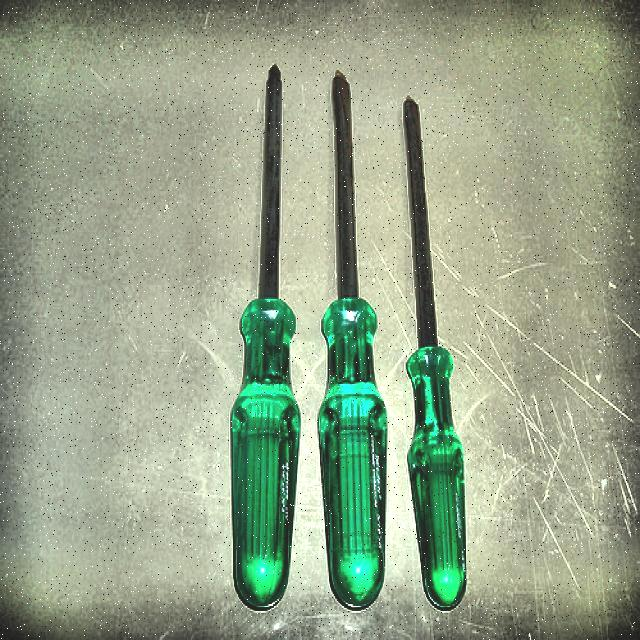screwdriver: (316, 68, 388, 611), (232, 67, 300, 610), (404, 98, 467, 610)
